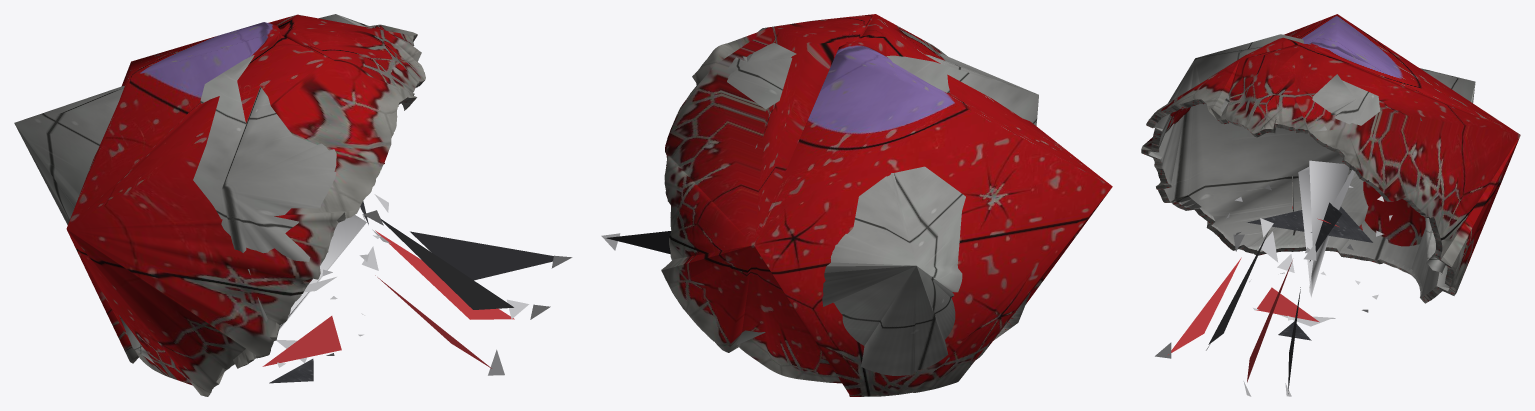
Rendered from baymax_shoulder_shell_lod2.glb.
3 views of the same model, side by side, from view 1: azimuth 30°, elevation 25°; view 2: azimuth 150°, elevation 25°; view 3: azimuth 270°, elevation 25° (orthographic). The views are drawn at different scales.
Parts seen in each view (by area): view 1: baymax_shoulder_shell; view 2: baymax_shoulder_shell; view 3: baymax_shoulder_shell.
Boxes of the visible parts, x1=… form: baymax_shoulder_shell: x1=14, y1=14, x2=572, y2=396; baymax_shoulder_shell: x1=601, y1=14, x2=1112, y2=396; baymax_shoulder_shell: x1=1141, y1=14, x2=1520, y2=396.
Size of the model in its own units: 1.05 by 0.6567 by 0.7911.
7 materials, 4 textured.
